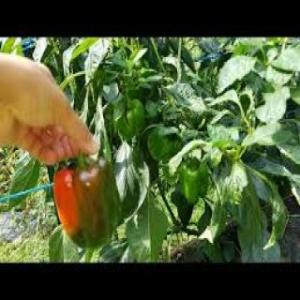bell_pepper: (44, 142, 128, 256)
